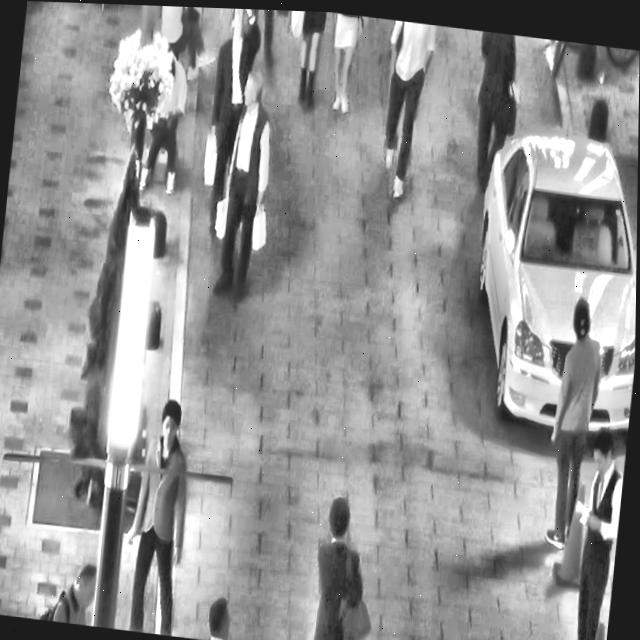light_vehicle: (455, 100, 639, 443)
